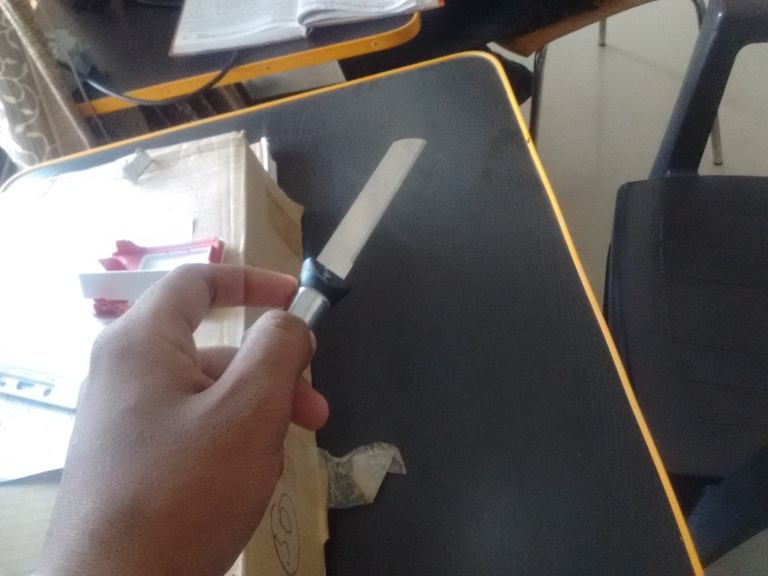knife: (319, 139, 426, 340)
